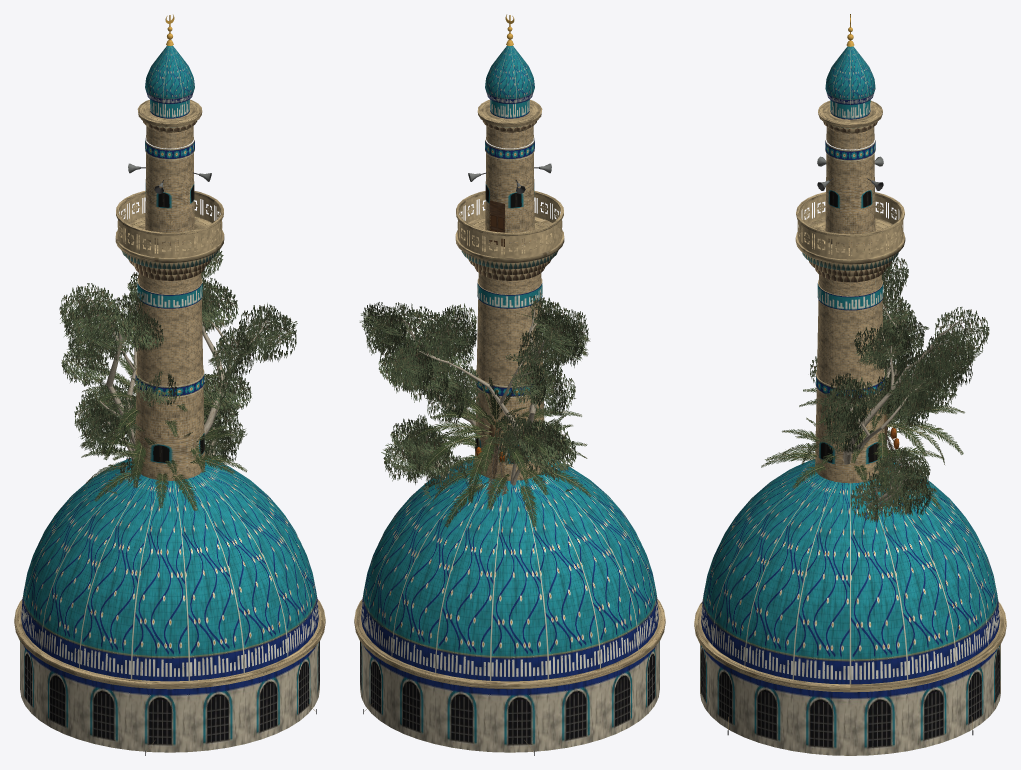
Rendered from props.glb.
The picture shows the model from 3 angles, left to right: view 1: azimuth 30°, elevation 25°; view 2: azimuth 150°, elevation 25°; view 3: azimuth 270°, elevation 25°; orthographic projection.
Visible parts, largest first — view 1: dome_large, minaret, tree_eucalyptus, tree_eucalyptus_b, palm_a, palm_c; view 2: dome_large, minaret, tree_eucalyptus, tree_eucalyptus_b, palm_c, palm_a; view 3: dome_large, minaret, tree_eucalyptus, tree_eucalyptus_b, palm_c, palm_a.
Boxes of the visible parts, x1,y1,x2,y2 form: dome_large: (14,458,325,752); minaret: (115,14,224,480); tree_eucalyptus: (59,249,297,446); tree_eucalyptus_b: (74,376,247,486); palm_a: (81,402,247,510); palm_c: (76,350,234,487); dome_large: (354,457,665,752); minaret: (455,14,564,480); tree_eucalyptus: (359,292,590,462); tree_eucalyptus_b: (381,413,576,502); palm_c: (414,366,581,505); palm_a: (435,414,591,527); dome_large: (694,459,1006,755); minaret: (795,14,905,483); tree_eucalyptus: (810,256,989,464); tree_eucalyptus_b: (850,368,936,531); palm_c: (799,358,964,486); palm_a: (761,417,944,510).
Size of the model in its own units: 12.44 by 31.36 by 12.44.
Materials: 7 (7 with a texture image).
